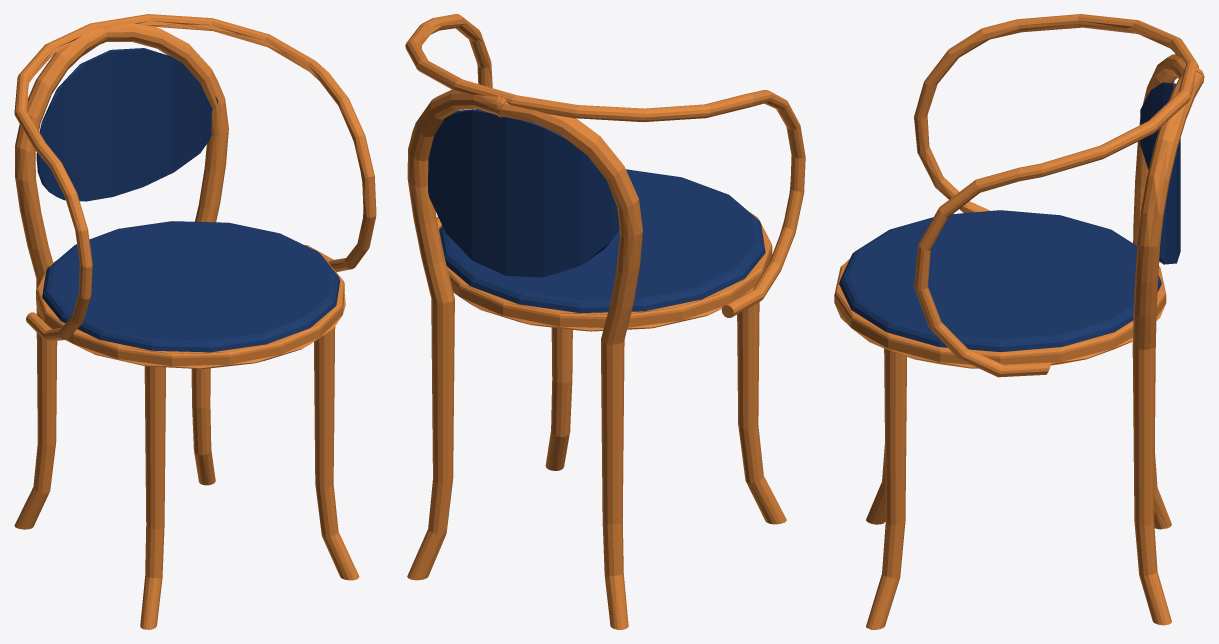
The model's file is chair-by-cmht-oculus-4FiA3FG18yv.glb.
3 renders of one model, left to right at view 1: azimuth 30°, elevation 25°; view 2: azimuth 150°, elevation 25°; view 3: azimuth 270°, elevation 25°, orthographic. The views are drawn at different scales.
Visible parts, largest first — view 1: Node; view 2: Node; view 3: Node.
Part boxes in pixels (x1,y1,x2,y2): Node: [14, 14, 376, 629]; Node: [405, 14, 805, 629]; Node: [834, 14, 1204, 629].
Size of the model in its own units: 19.75 by 30.19 by 19.98.
